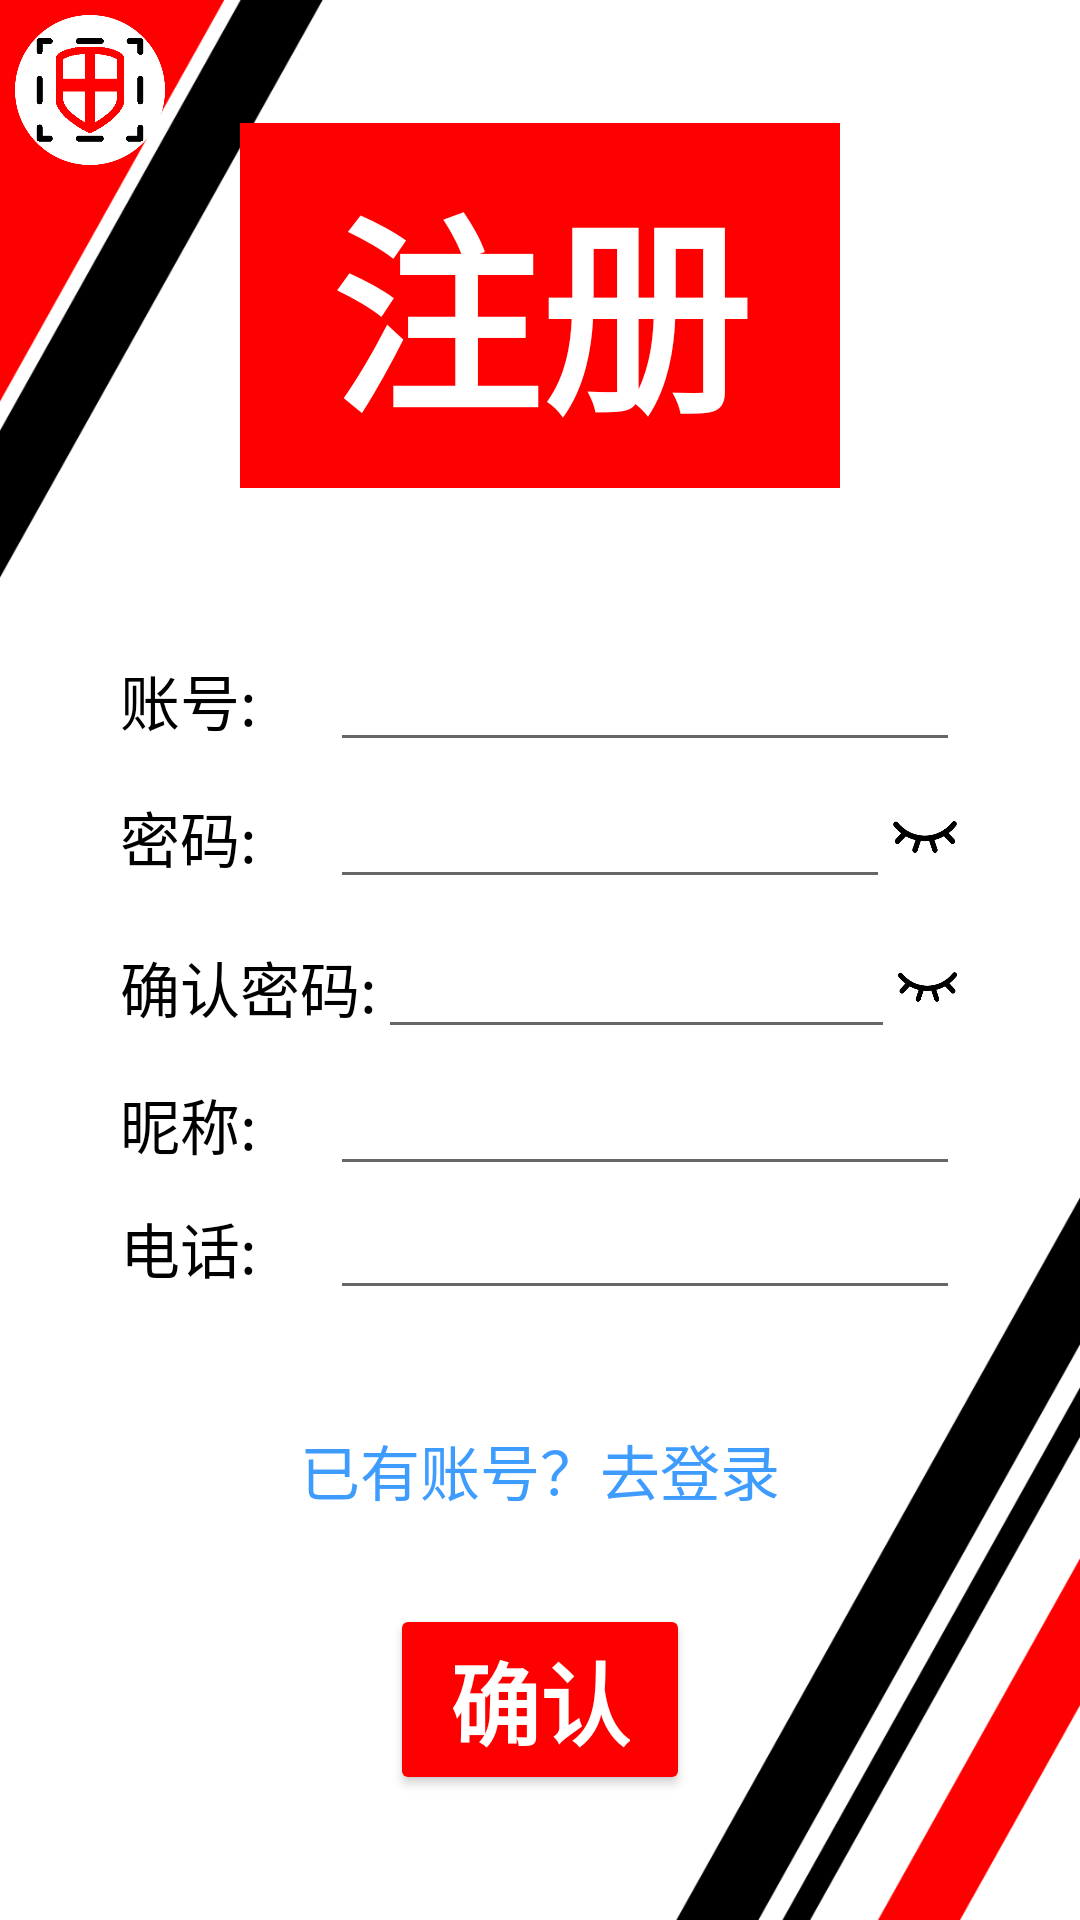

Screen size 1080×1920. Icon name, then its box in pixels as (x1, y1, x2, y2):
close eye: (893, 821, 957, 853), (898, 972, 957, 1002)
